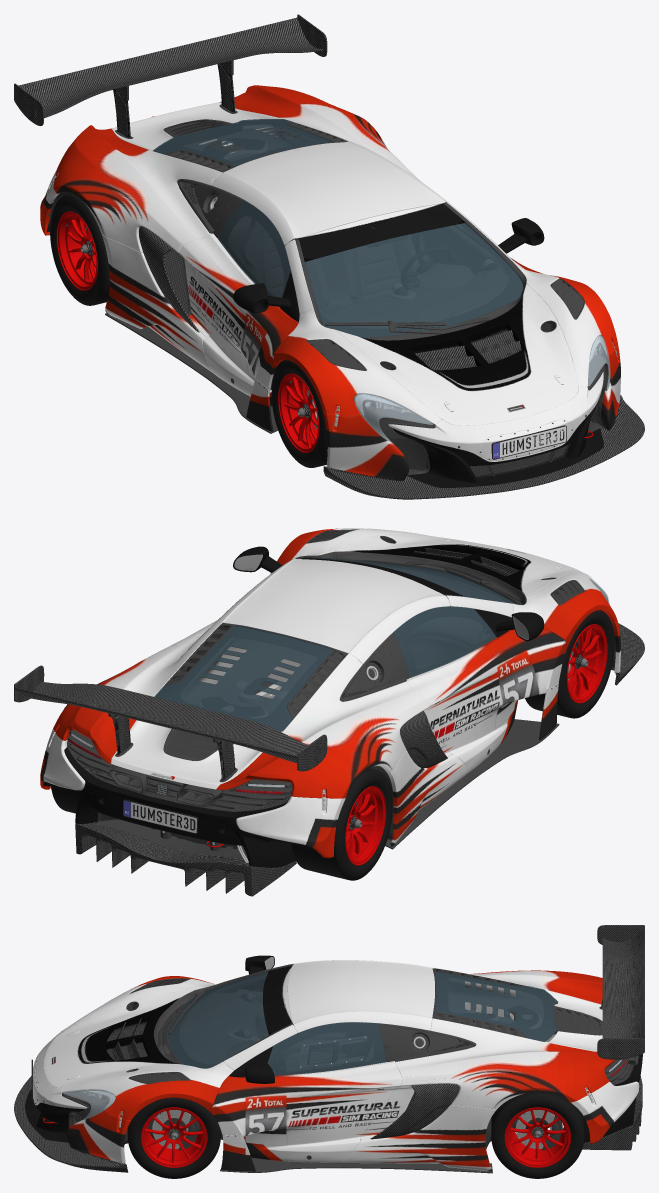
The model's file is mclaren-650s-gt3-high.glb.
3 views of the same model, one above another, from view 1: azimuth 30°, elevation 25°; view 2: azimuth 150°, elevation 25°; view 3: azimuth 270°, elevation 25° (orthographic). The views are drawn at different scales.
Parts seen in each view (by area): view 1: body, wheel_rear_right, wheel_front_right; view 2: body, wheel_rear_right, wheel_front_right, wheel_rear_left; view 3: body, wheel_rear_left, wheel_front_left.
Boxes of the visible parts, bbox=[...] form: body: bbox=[14, 14, 644, 499]; wheel_rear_right: bbox=[50, 193, 109, 305]; wheel_front_right: bbox=[271, 360, 327, 467]; body: bbox=[14, 528, 644, 896]; wheel_rear_right: bbox=[291, 768, 392, 880]; wheel_front_right: bbox=[525, 610, 614, 718]; wheel_rear_left: bbox=[51, 786, 79, 813]; body: bbox=[14, 925, 644, 1173]; wheel_rear_left: bbox=[491, 1092, 584, 1178]; wheel_front_left: bbox=[127, 1097, 220, 1178].
Size of the model in its own units: 2.09 by 1.14 by 4.65.
18 materials, 2 textured.
